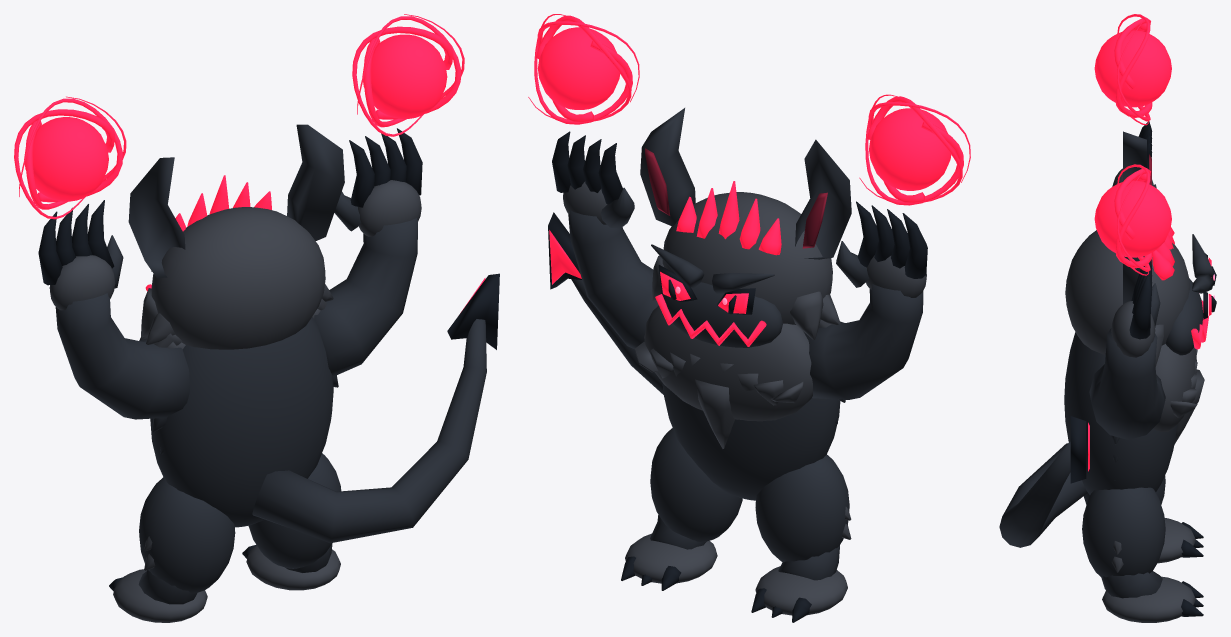
Rendered from shadow-stalker.glb.
3 views of the same model, side by side, from view 1: azimuth 30°, elevation 25°; view 2: azimuth 150°, elevation 25°; view 3: azimuth 270°, elevation 25° (orthographic). The views are drawn at different scales.
Visible parts, largest first — view 1: body__Fur, head__Fur highlight, tail__Fur, arm_l__Fur, arm_r__Fur, leg_l__Fur, orb_l__Ruby, orb_r__Ruby, head__Fur, leg_r__Fur, arm_l__Ink, arm_r__Ink (+6 smaller); view 2: body__Fur highlight, head__Fur, head__Fur highlight, body__Fur, arm_l__Fur, leg_l__Fur, orb_l__Ruby, arm_r__Fur, orb_r__Ruby, leg_r__Fur, head__Ruby, arm_l__Ink (+12 smaller); view 3: leg_r__Fur, body__Fur, head__Fur highlight, arm_r__Fur, orb_l__Ruby, orb_r__Ruby, tail__Fur, head__Fur, body__Fur highlight, leg_r__Fur highlight, arm_r__Fur highlight, arm_r__Ink (+5 smaller).
Boxes of the visible parts, bbox=[...] form: body__Fur: bbox=[150, 317, 338, 527]; head__Fur highlight: bbox=[141, 207, 333, 349]; tail__Fur: bbox=[252, 319, 486, 543]; arm_l__Fur: bbox=[55, 235, 189, 419]; arm_r__Fur: bbox=[314, 191, 417, 375]; leg_l__Fur: bbox=[138, 477, 235, 604]; orb_l__Ruby: bbox=[14, 96, 126, 219]; orb_r__Ruby: bbox=[352, 14, 464, 136]; head__Fur: bbox=[128, 124, 344, 278]; leg_r__Fur: bbox=[248, 453, 341, 572]; arm_l__Ink: bbox=[38, 200, 114, 285]; arm_r__Ink: bbox=[349, 128, 422, 207]; body__Fur highlight: bbox=[635, 305, 812, 448]; head__Fur: bbox=[640, 108, 851, 347]; head__Fur highlight: bbox=[652, 192, 840, 339]; body__Fur: bbox=[662, 383, 845, 500]; arm_l__Fur: bbox=[803, 241, 923, 399]; leg_l__Fur: bbox=[755, 454, 849, 580]; orb_l__Ruby: bbox=[859, 94, 970, 205]; arm_r__Fur: bbox=[568, 187, 658, 349]; orb_r__Ruby: bbox=[528, 14, 639, 124]; leg_r__Fur: bbox=[650, 428, 742, 549]; head__Ruby: bbox=[655, 181, 781, 346]; arm_l__Ink: bbox=[856, 201, 927, 278]; leg_r__Fur: bbox=[1082, 487, 1165, 598]; body__Fur: bbox=[1064, 332, 1177, 494]; head__Fur highlight: bbox=[1065, 230, 1190, 366]; arm_r__Fur: bbox=[1089, 283, 1165, 439]; orb_l__Ruby: bbox=[1094, 14, 1171, 125]; orb_r__Ruby: bbox=[1094, 164, 1171, 275]; tail__Fur: bbox=[999, 441, 1087, 547]; head__Fur: bbox=[1123, 131, 1213, 355]; body__Fur highlight: bbox=[1153, 344, 1204, 444]; leg_r__Fur highlight: bbox=[1102, 541, 1195, 622]; arm_r__Fur highlight: bbox=[1111, 301, 1155, 357]; arm_r__Ink: bbox=[1129, 261, 1152, 339].
Size of the model in its own units: 4.55 by 5.21 by 2.08.
